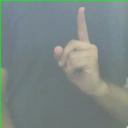hand: (53, 6, 103, 97)
